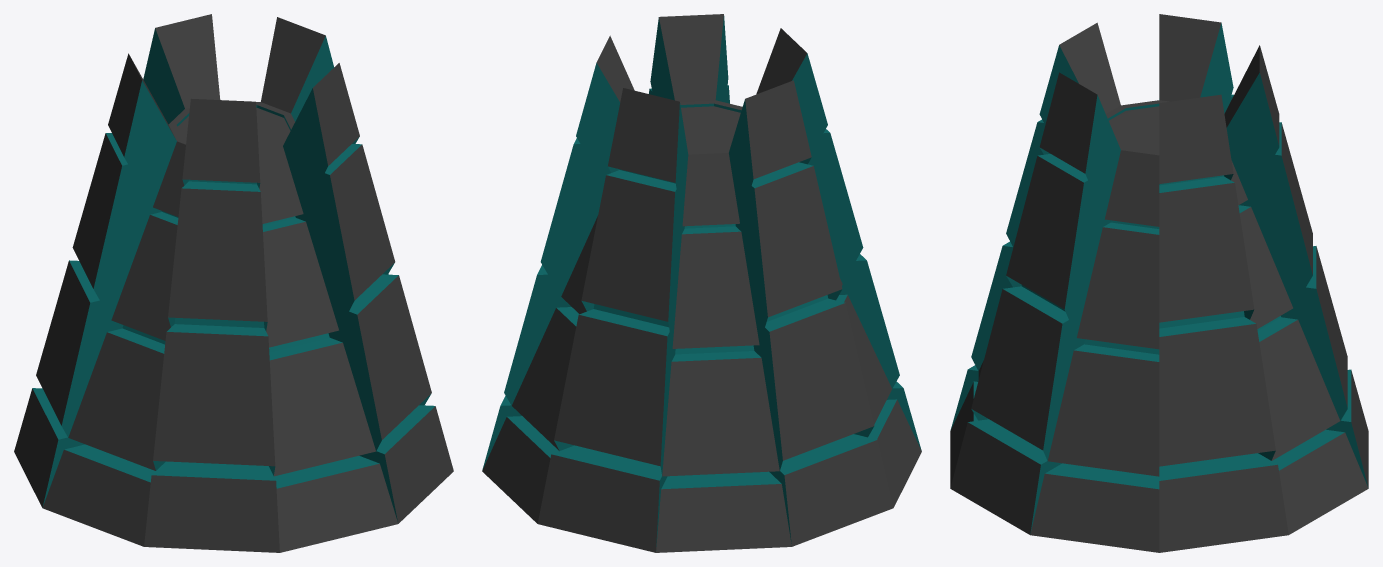
File: first_tower+texture.fbx
The picture shows the model from 3 angles, left to right: view 1: azimuth 30°, elevation 25°; view 2: azimuth 150°, elevation 25°; view 3: azimuth 270°, elevation 25°; orthographic projection.
Parts seen in each view (by area): view 1: pCylinder4; view 2: pCylinder4; view 3: pCylinder4.
Part boxes in pixels (box(x1,y1,x2,y2)): pCylinder4: box(14, 14, 453, 552); pCylinder4: box(482, 14, 921, 552); pCylinder4: box(950, 14, 1368, 552).
Bounding box in the file's own units: 600 × 604 × 571.
